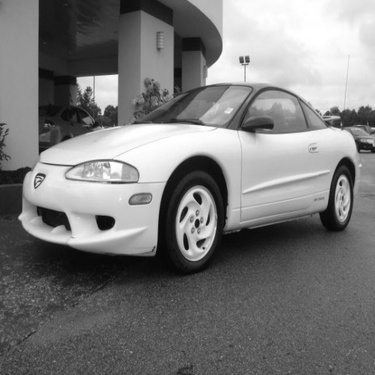car: (15, 73, 365, 279), (50, 100, 116, 156), (340, 123, 374, 154)
